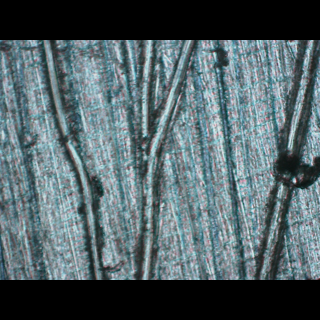d: (119, 40, 201, 280), (36, 40, 111, 280), (252, 40, 320, 278)
